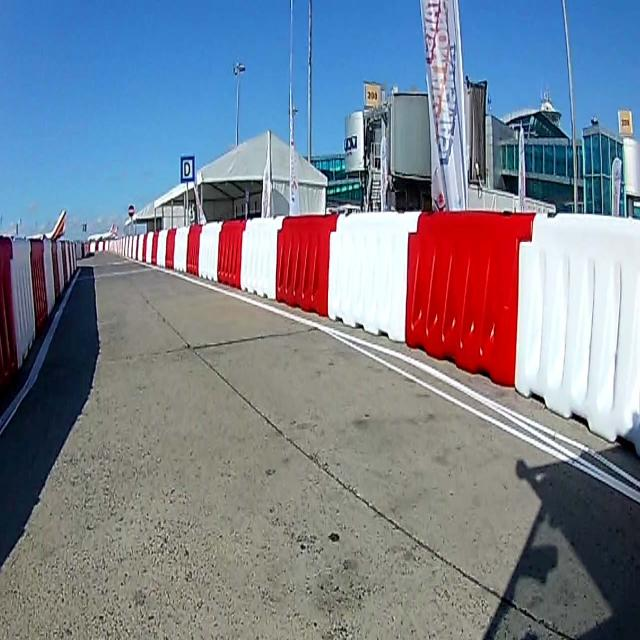durak: (180, 155, 195, 185)
girisyok: (128, 203, 134, 217)
